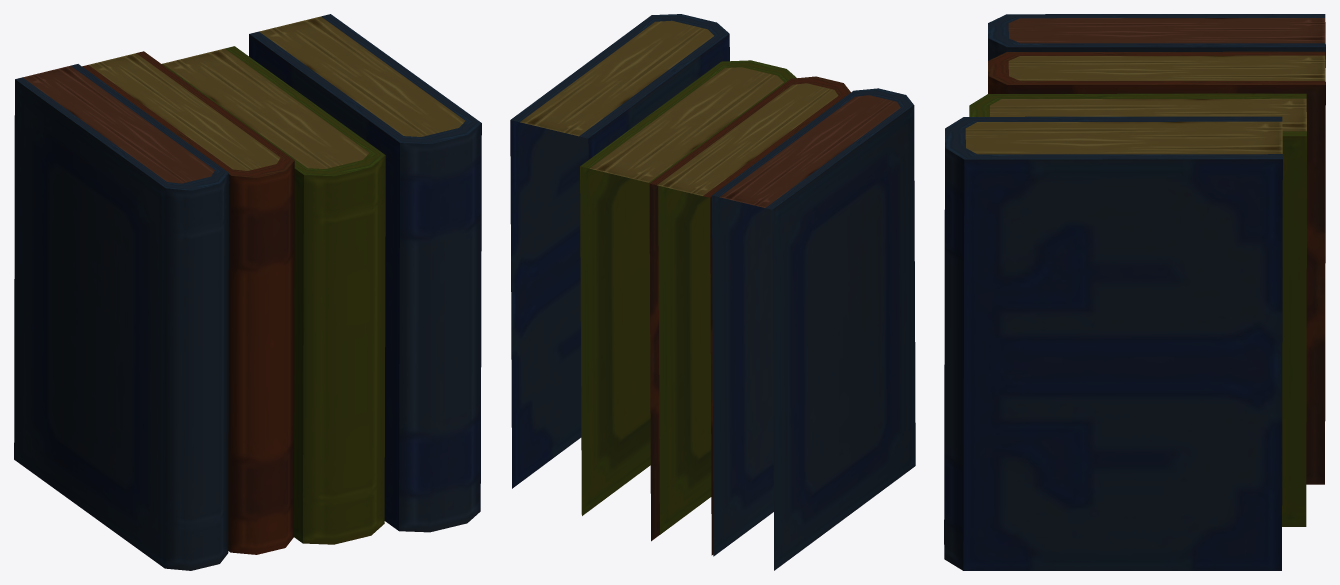
The model's file is BookGroup_Small_2.gltf.
3 renders of one model, left to right at view 1: azimuth 30°, elevation 25°; view 2: azimuth 150°, elevation 25°; view 3: azimuth 270°, elevation 25°, orthographic. The views are drawn at different scales.
Parts seen in each view (by area): view 1: BookGroup_Small_2; view 2: BookGroup_Small_2; view 3: BookGroup_Small_2.
Part boxes in pixels (x1=…): BookGroup_Small_2: x1=14, y1=14, x2=481, y2=570; BookGroup_Small_2: x1=510, y1=14, x2=915, y2=570; BookGroup_Small_2: x1=944, y1=14, x2=1325, y2=570.
Size of the model in its own units: 0.2276 by 0.2831 by 0.2372.
Materials: 1 (1 with a texture image).
